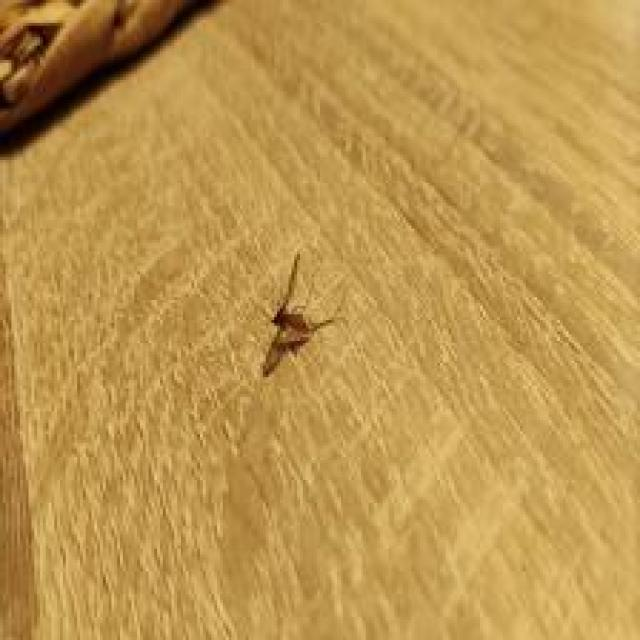Culex: (257, 250, 340, 379)
